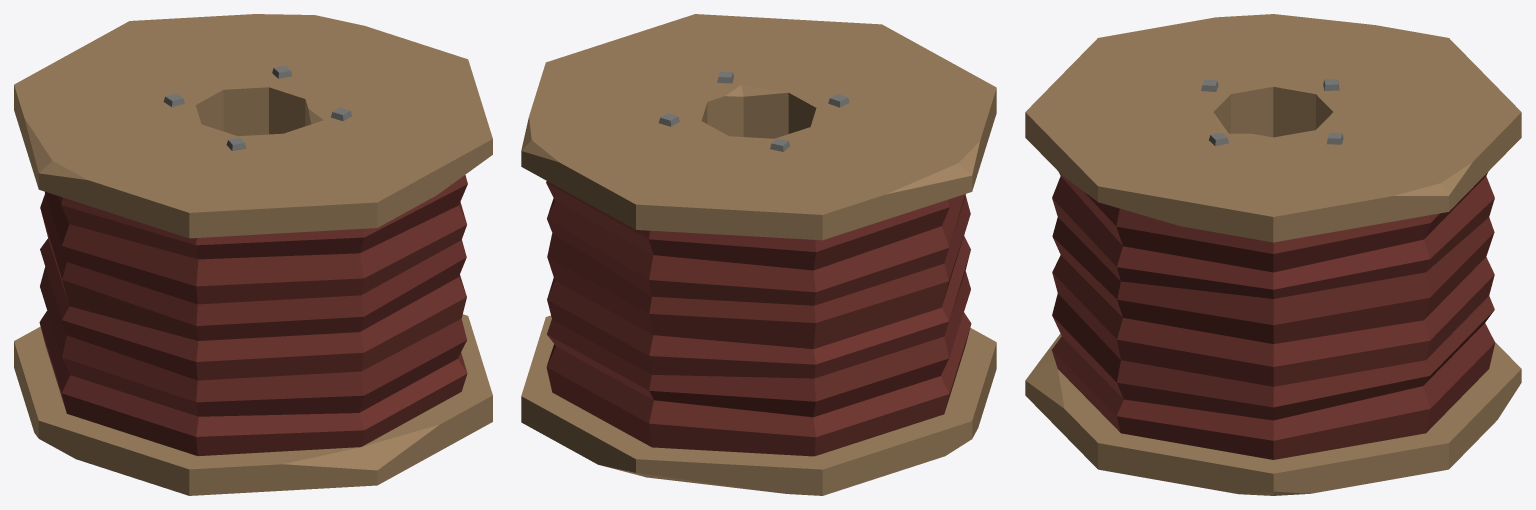
The model's file is SM_Prop_Wirespool_01.obj.
The picture shows the model from 3 angles, left to right: view 1: azimuth 30°, elevation 25°; view 2: azimuth 150°, elevation 25°; view 3: azimuth 270°, elevation 25°; orthographic projection.
Visible parts, largest first — view 1: SM_Prop_Wirespool_01_0; view 2: SM_Prop_Wirespool_01_0; view 3: SM_Prop_Wirespool_01_0.
Part boxes in pixels (left/top/right/bottom): SM_Prop_Wirespool_01_0: left=14, top=14, right=492, bottom=495; SM_Prop_Wirespool_01_0: left=521, top=14, right=996, bottom=495; SM_Prop_Wirespool_01_0: left=1025, top=14, right=1521, bottom=495.
Size of the model in its own units: 1.56 by 1.02 by 1.56.
Materials: 1 (1 with a texture image).
